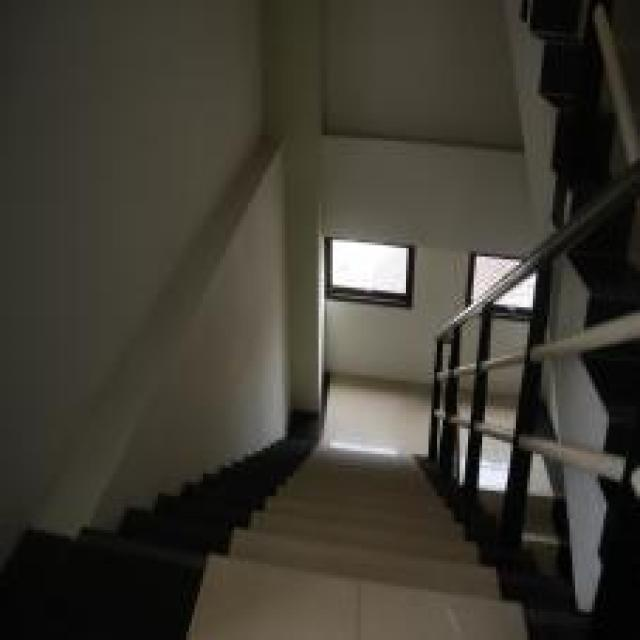downstair: (244, 464, 447, 639)
